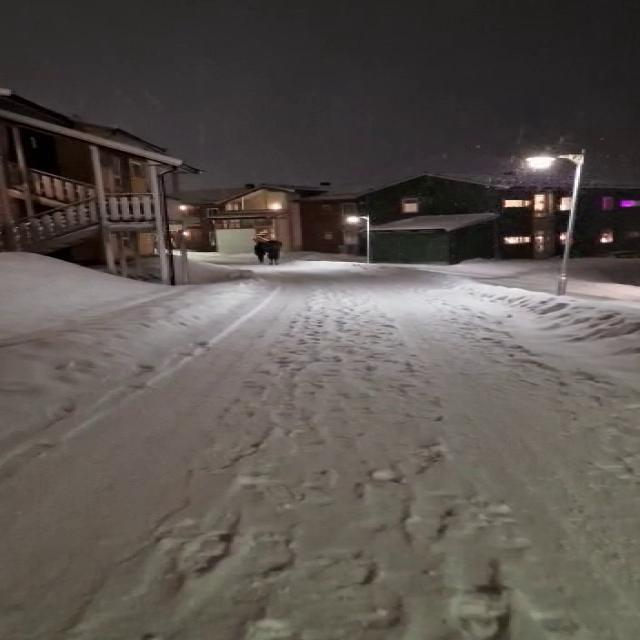path: (0, 262, 640, 640)
